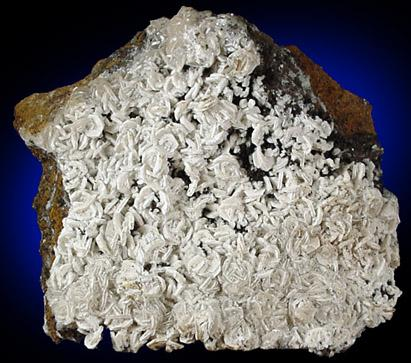calcite: (27, 8, 401, 354)
